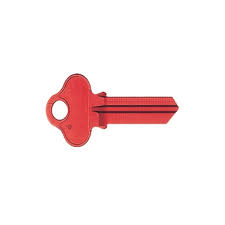kicharina: (45, 72, 182, 152)
